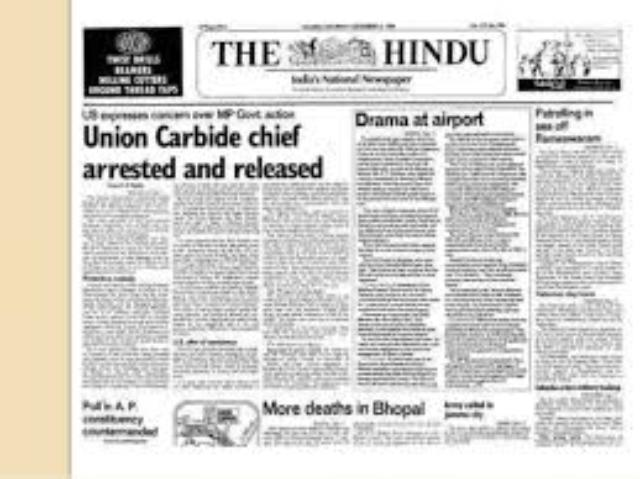cardboard paper: (69, 5, 633, 469)
